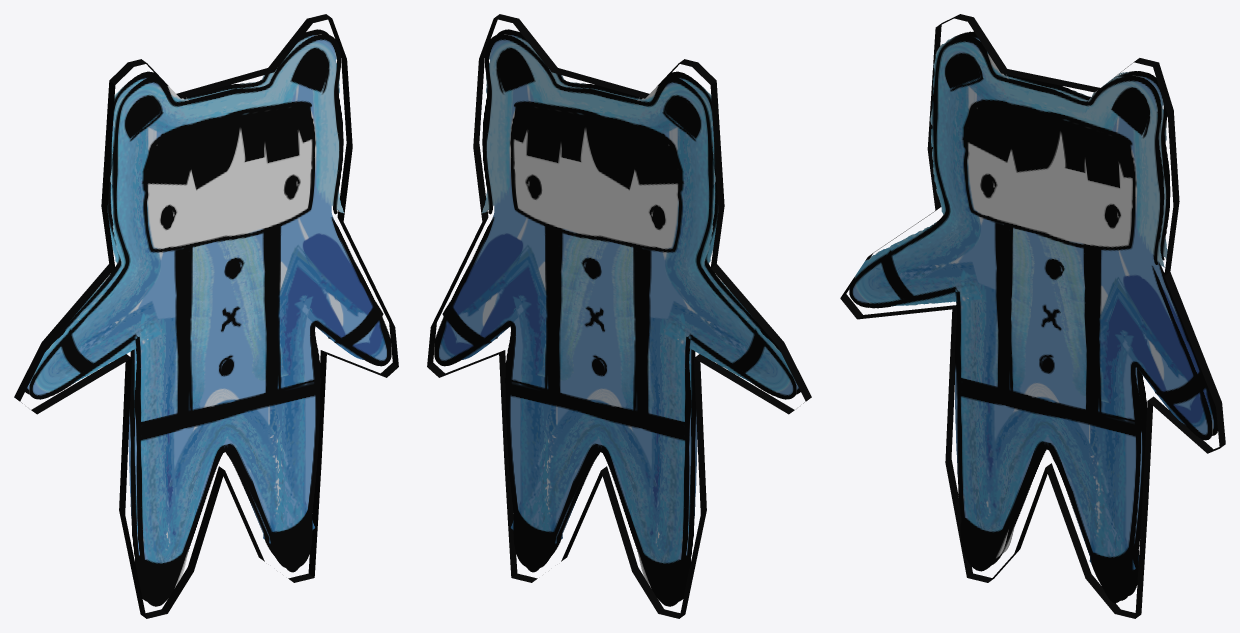
The model's file is PlayeBasic.fbx.
3 renders of one model, left to right at view 1: azimuth 30°, elevation 25°; view 2: azimuth 150°, elevation 25°; view 3: azimuth 330°, elevation 25°, orthographic.
Parts seen in each view (by area): view 1: PlayerBase_MDL; view 2: PlayerBase_MDL; view 3: PlayerBase_MDL.
Boxes of the visible parts, x1=… form: PlayerBase_MDL: x1=14, y1=14, x2=398, y2=618; PlayerBase_MDL: x1=427, y1=14, x2=811, y2=618; PlayerBase_MDL: x1=840, y1=14, x2=1225, y2=618.
Bounding box in the file's own units: 143 × 200 × 4.
Materials: 2 (1 with a texture image).
